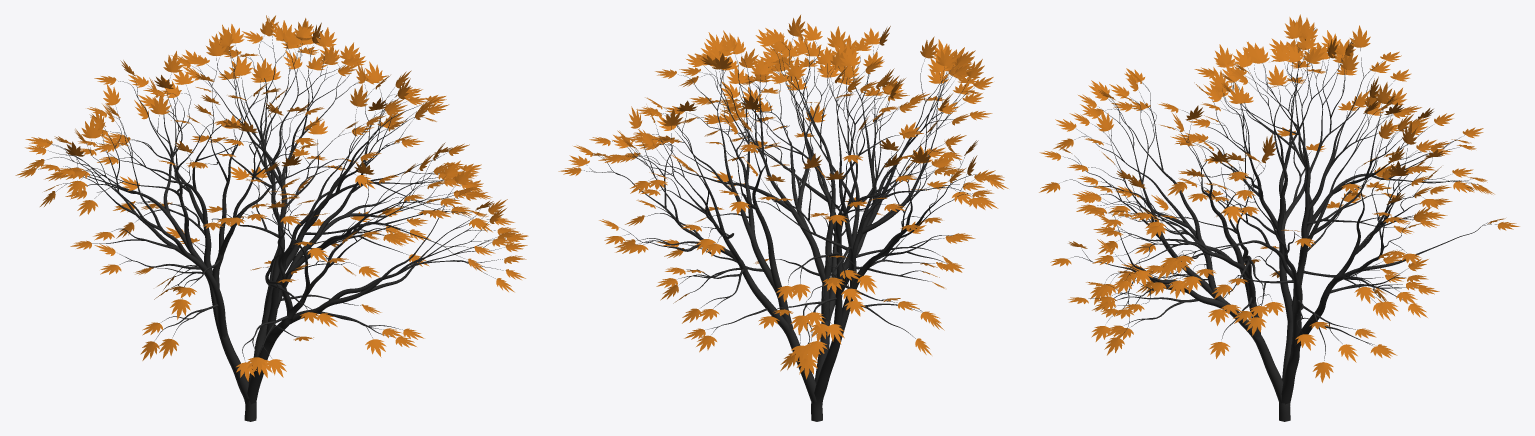
Rendered from Tree2.obj.
3 renders of one model, left to right at view 1: azimuth 30°, elevation 25°; view 2: azimuth 150°, elevation 25°; view 3: azimuth 270°, elevation 25°, orthographic.
Parts seen in each view (by area): view 1: leaves_leaves.001, tree_tree.001; view 2: leaves_leaves.001, tree_tree.001; view 3: leaves_leaves.001, tree_tree.001.
Boxes of the visible parts, left/top/right/bottom form: leaves_leaves.001: left=15, top=15, right=528, bottom=381; tree_tree.001: left=36, top=36, right=505, bottom=421; leaves_leaves.001: left=558, top=15, right=1008, bottom=379; tree_tree.001: left=581, top=37, right=976, bottom=421; leaves_leaves.001: left=1039, top=14, right=1519, bottom=382; tree_tree.001: left=1059, top=40, right=1497, bottom=421.
Size of the model in its own units: 10.69 by 9.17 by 11.11.
